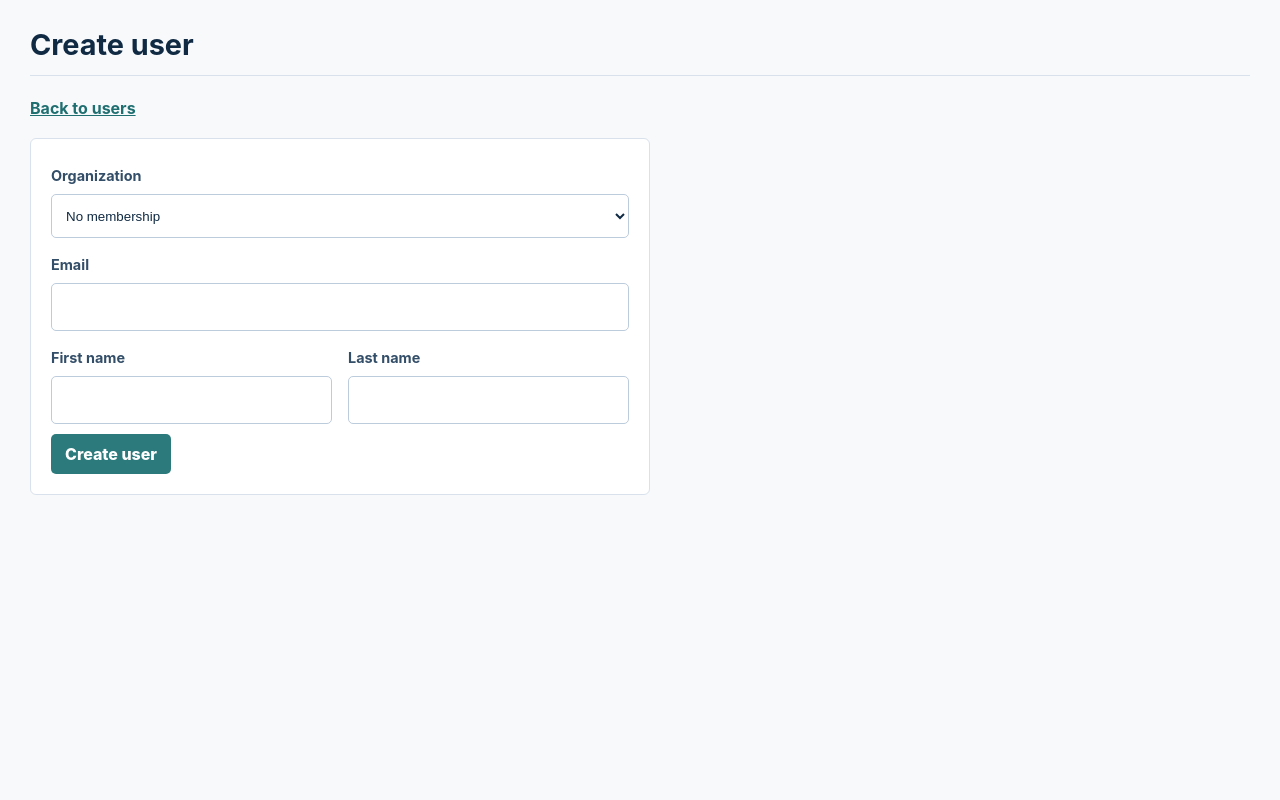
Test: shows the generated password once without caching it
Type "new@example.com" into the field labelled "Email".
click(340, 307); type("new@example.com")  # box x1=51 y1=283 x2=629 y2=331
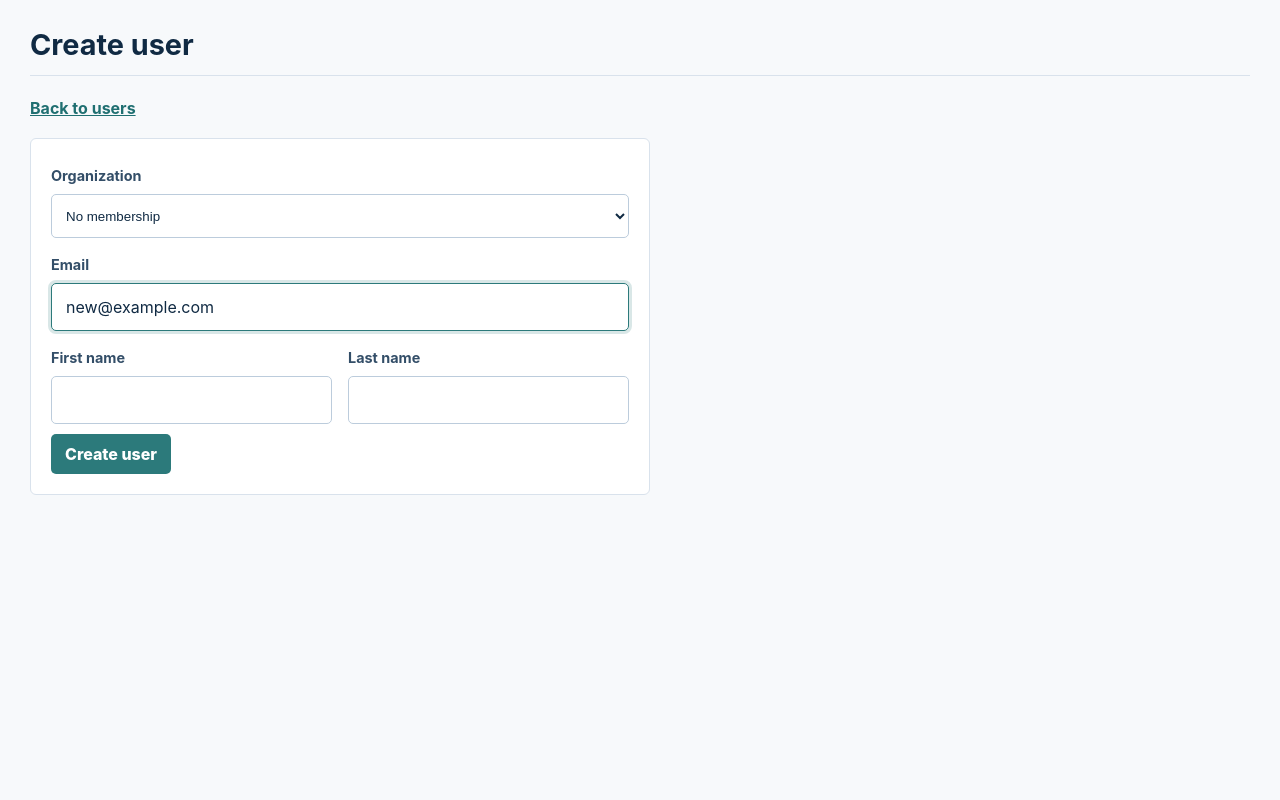
Type "New" into the field labelled "First name".
click(192, 400); type("New")  # box x1=51 y1=376 x2=332 y2=424
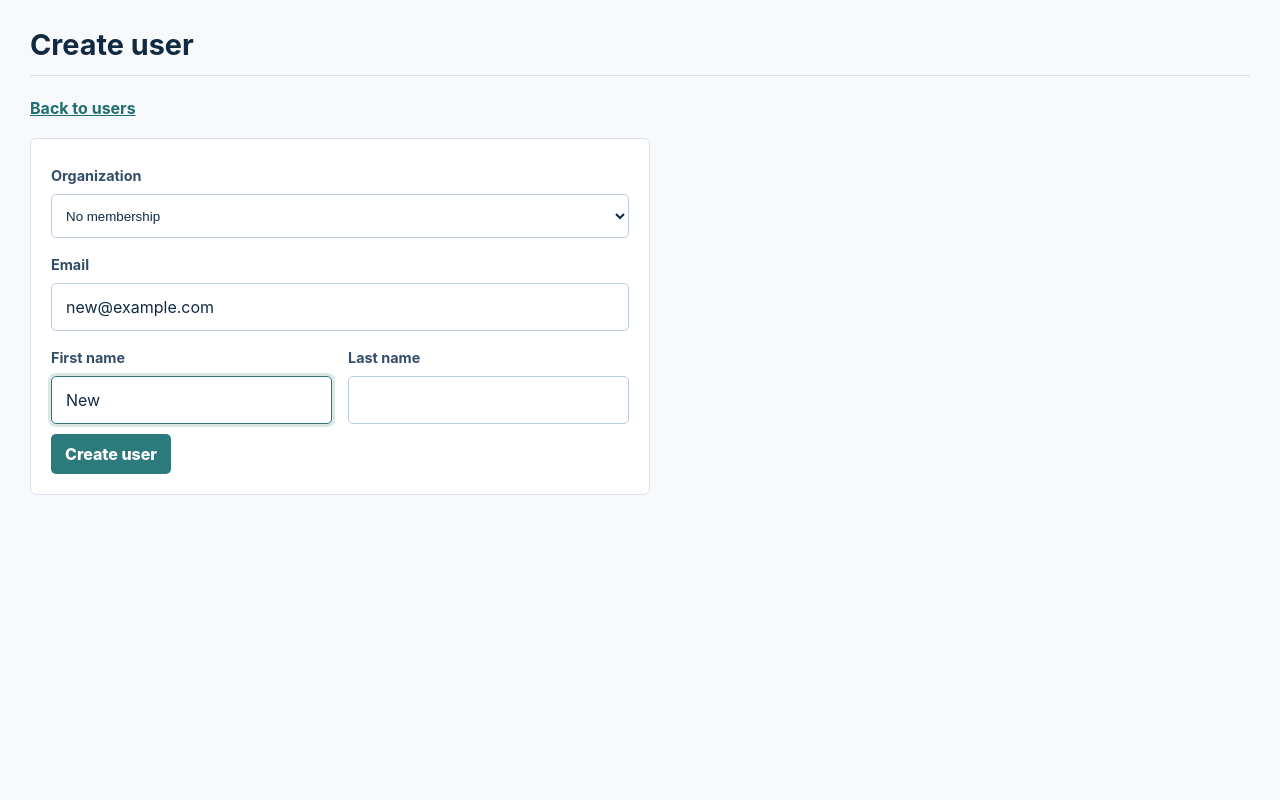
Type "User" into the field labelled "Last name".
click(488, 400); type("User")  # box x1=348 y1=376 x2=629 y2=424
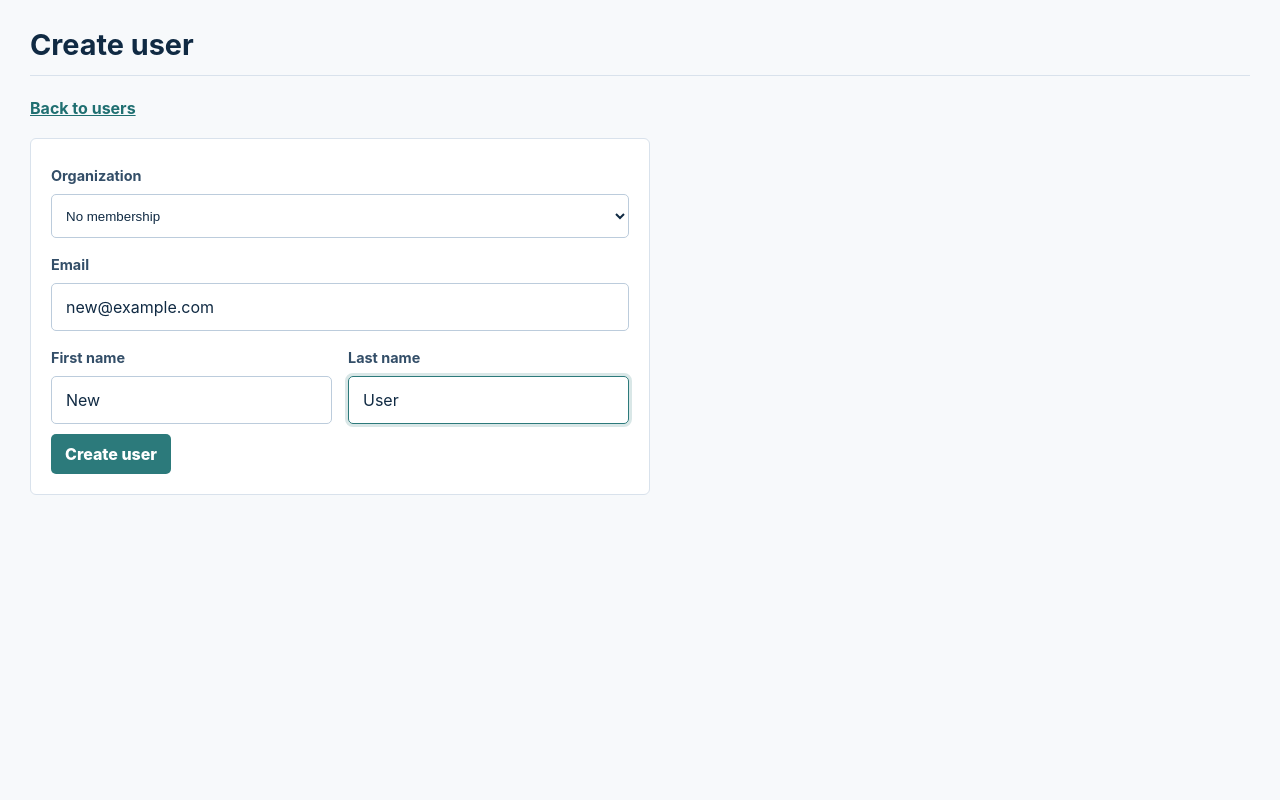
Click the button "Create user".
click(111, 454)  # box x1=51 y1=434 x2=171 y2=474
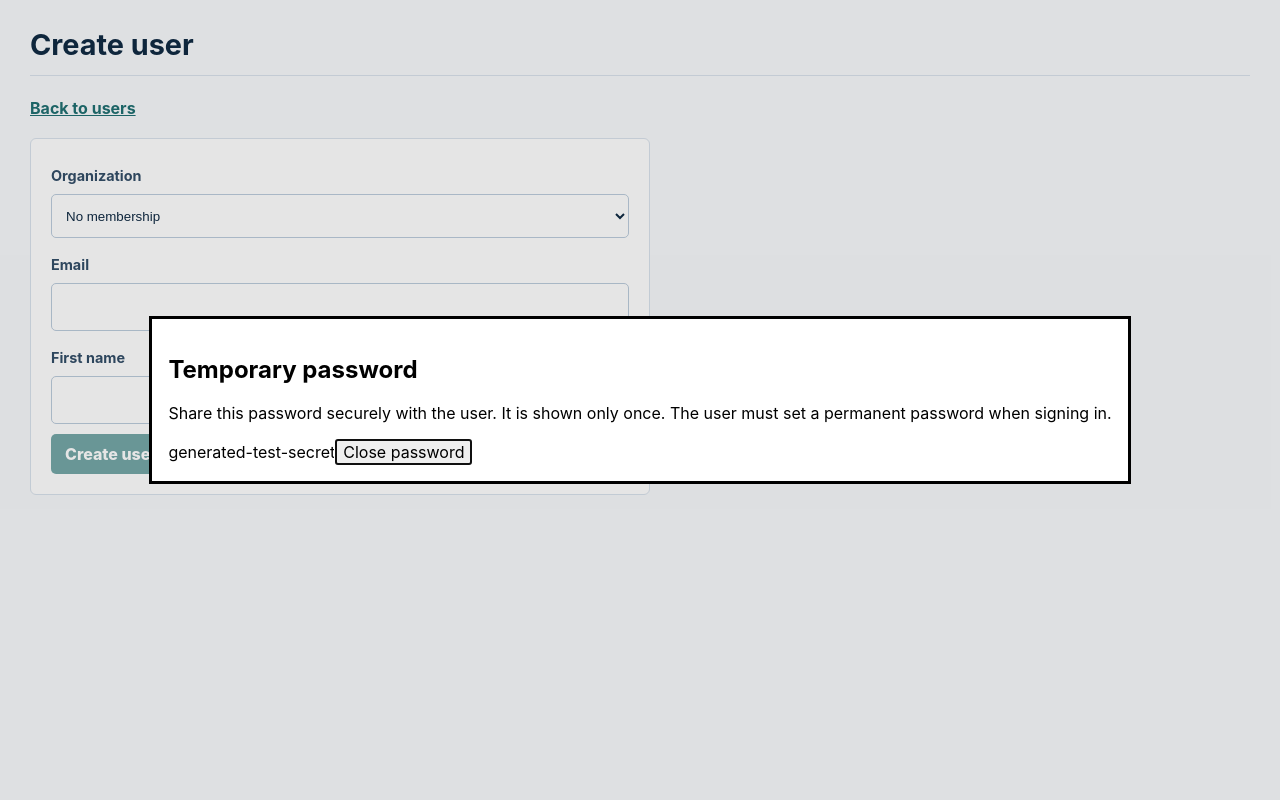
Check: the text named "Generated password" reads "generated-test-secret", box x1=168 y1=442 x2=335 y2=462
Click the button "Close password".
click(404, 452)  # box x1=335 y1=439 x2=472 y2=465
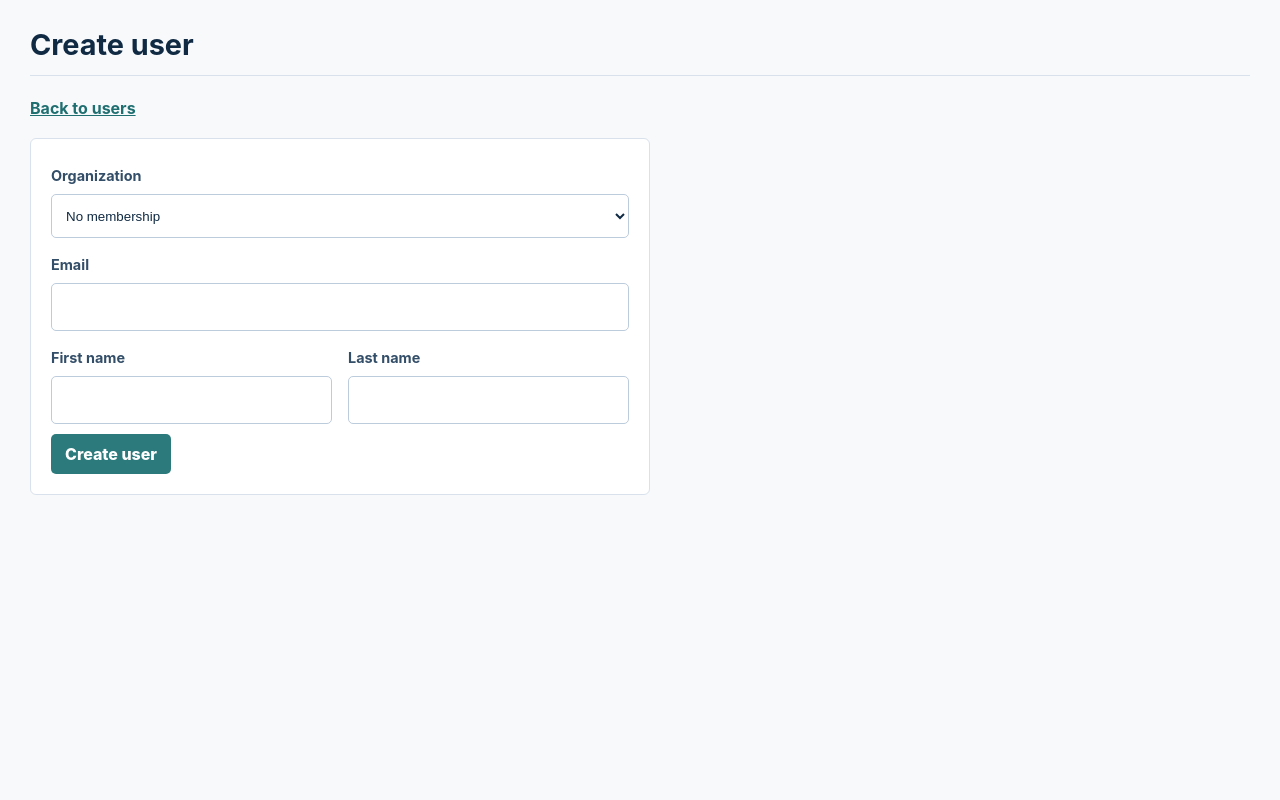
Check: the text "generated-test-secret" is gone
